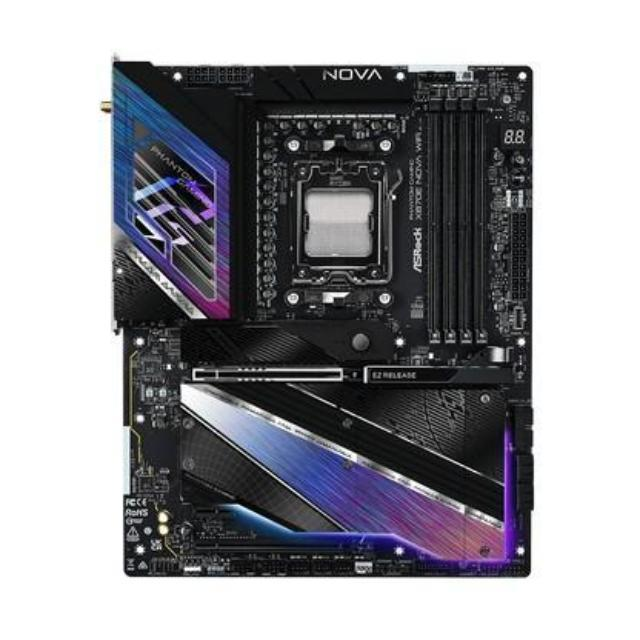Mainboard: (96, 43, 542, 592)
